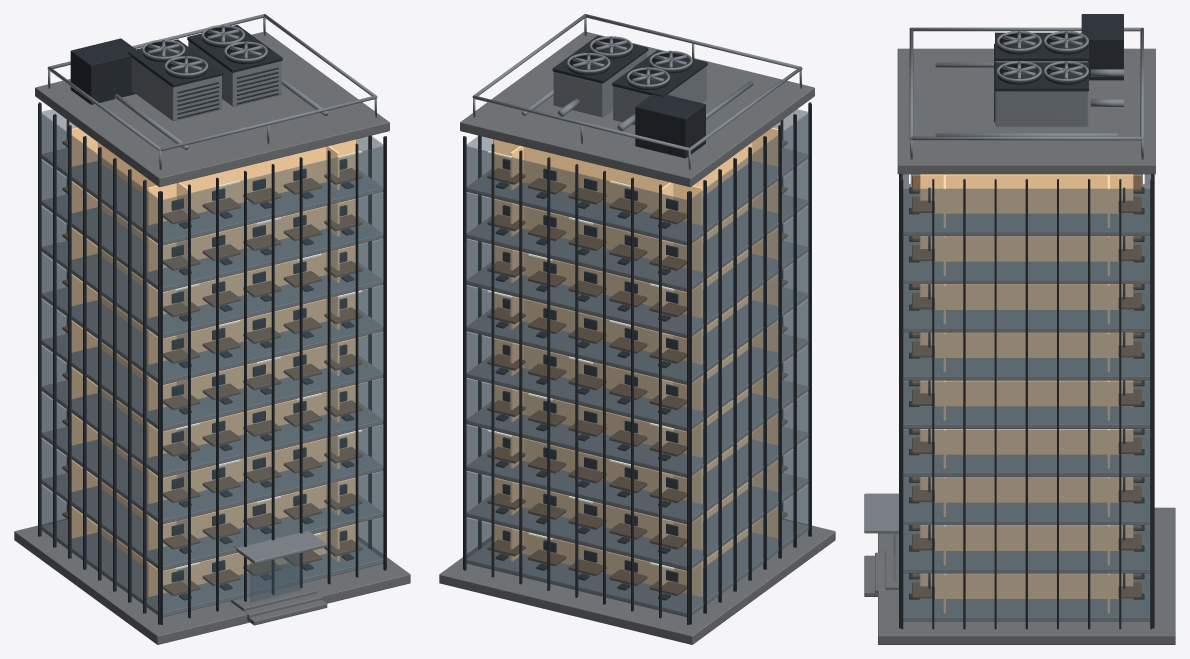
File: tower.glb
3 views of the same model, side by side, from view 1: azimuth 30°, elevation 25°; view 2: azimuth 150°, elevation 25°; view 3: azimuth 270°, elevation 25° (orthographic). The views are drawn at different scales.
Parts seen in each view (by area): view 1: body_glass.008, body_steel.025, body_dark.024, body_window.004, body_concrete.009, body_wood.004, body_steel.026, body_dark.025, body_warm.017; view 2: body_glass.008, body_steel.025, body_dark.024, body_window.004, body_concrete.009, body_wood.004, body_steel.026, body_dark.025, body_warm.017; view 3: body_glass.008, body_steel.025, body_window.004, body_concrete.009, body_dark.024, body_steel.026, body_wood.004, body_dark.025.
Boxes of the visible parts, x1=… form: body_glass.008: x1=40, y1=109, x2=383, y2=614; body_steel.025: x1=41, y1=41, x2=383, y2=617; body_dark.024: x1=38, y1=24, x2=386, y2=624; body_window.004: x1=71, y1=127, x2=356, y2=596; body_concrete.009: x1=14, y1=32, x2=410, y2=644; body_wood.004: x1=62, y1=140, x2=362, y2=595; body_steel.026: x1=47, y1=14, x2=377, y2=170; body_dark.025: x1=142, y1=27, x2=266, y2=78; body_warm.017: x1=175, y1=151, x2=361, y2=569; body_glass.008: x1=466, y1=109, x2=809, y2=614; body_steel.025: x1=466, y1=52, x2=808, y2=617; body_dark.024: x1=463, y1=35, x2=811, y2=624; body_window.004: x1=493, y1=127, x2=778, y2=596; body_concrete.009: x1=439, y1=32, x2=835, y2=644; body_wood.004: x1=487, y1=140, x2=787, y2=595; body_steel.026: x1=472, y1=14, x2=802, y2=170; body_dark.025: x1=567, y1=39, x2=691, y2=89; body_warm.017: x1=488, y1=151, x2=674, y2=569; body_glass.008: x1=893, y1=175, x2=1152, y2=618; body_steel.025: x1=864, y1=61, x2=1150, y2=621; body_window.004: x1=920, y1=174, x2=1133, y2=613; body_concrete.009: x1=864, y1=48, x2=1175, y2=644; body_dark.024: x1=899, y1=14, x2=1154, y2=629; body_steel.026: x1=909, y1=27, x2=1143, y2=159; body_wood.004: x1=912, y1=176, x2=1141, y2=598; body_dark.025: x1=997, y1=33, x2=1088, y2=84.
Bounding box in the file's own units: 2 × 3.83 × 2.05.
